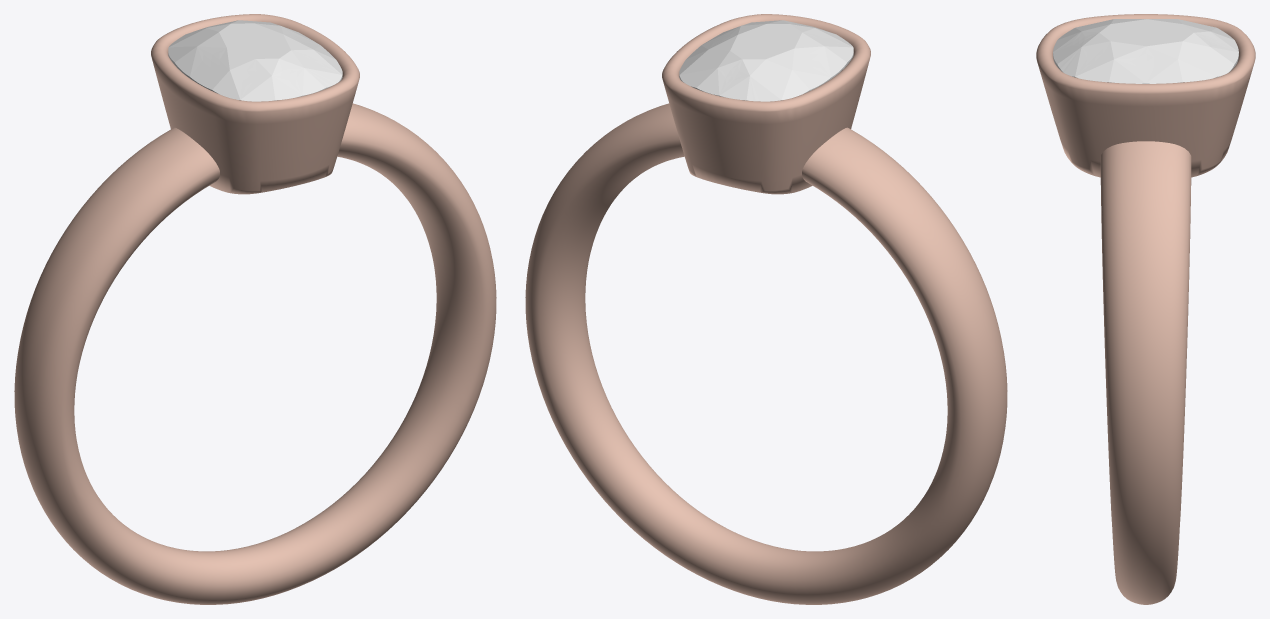
Rendered from diamond-cushion-rosegold-bezelset-taperedband-nosidestones.glb.
3 renders of one model, left to right at view 1: azimuth 30°, elevation 25°; view 2: azimuth 150°, elevation 25°; view 3: azimuth 270°, elevation 25°, orthographic.
Visible parts, largest first — view 1: metal.001, stone; view 2: metal.001, stone; view 3: metal.001, stone.
Part boxes in pixels (x1,y1,x2,y2): metal.001: (14, 14, 496, 604); stone: (168, 20, 342, 101); metal.001: (525, 14, 1007, 604); stone: (679, 20, 853, 101); metal.001: (1036, 14, 1255, 604); stone: (1053, 19, 1238, 83).
Size of the model in its own units: 20.49 by 23.24 by 8.45.
